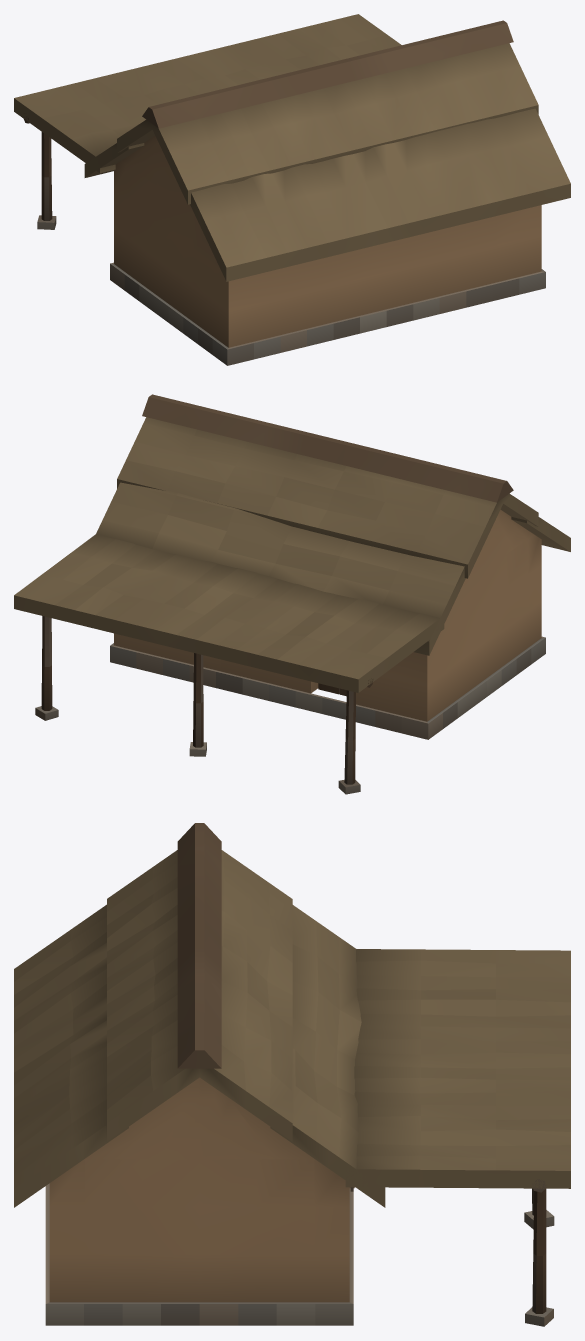
The model's file is casa_rancho_b.glb.
The picture shows the model from 3 angles, top to bottom: view 1: azimuth 30°, elevation 25°; view 2: azimuth 150°, elevation 25°; view 3: azimuth 270°, elevation 25°; orthographic projection. The views are drawn at different scales.
Parts seen in each view (by area): view 1: casa_rancho_b; view 2: casa_rancho_b; view 3: casa_rancho_b.
Part boxes in pixels (x1,y1,x2,y2): casa_rancho_b: (14, 14, 570, 365); casa_rancho_b: (14, 394, 570, 794); casa_rancho_b: (14, 823, 570, 1326).
Size of the model in its own units: 6.8 by 4.01 by 7.05.
